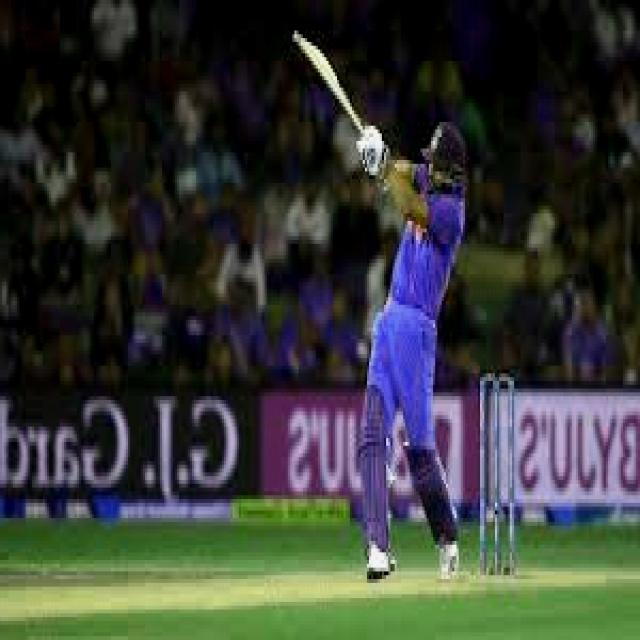toe: (287, 19, 310, 53)
